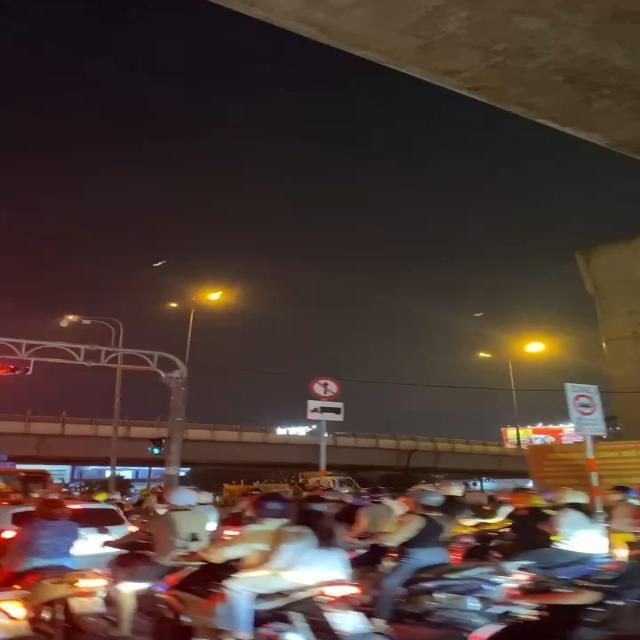136-cam-di-thang: (308, 376, 342, 399)
